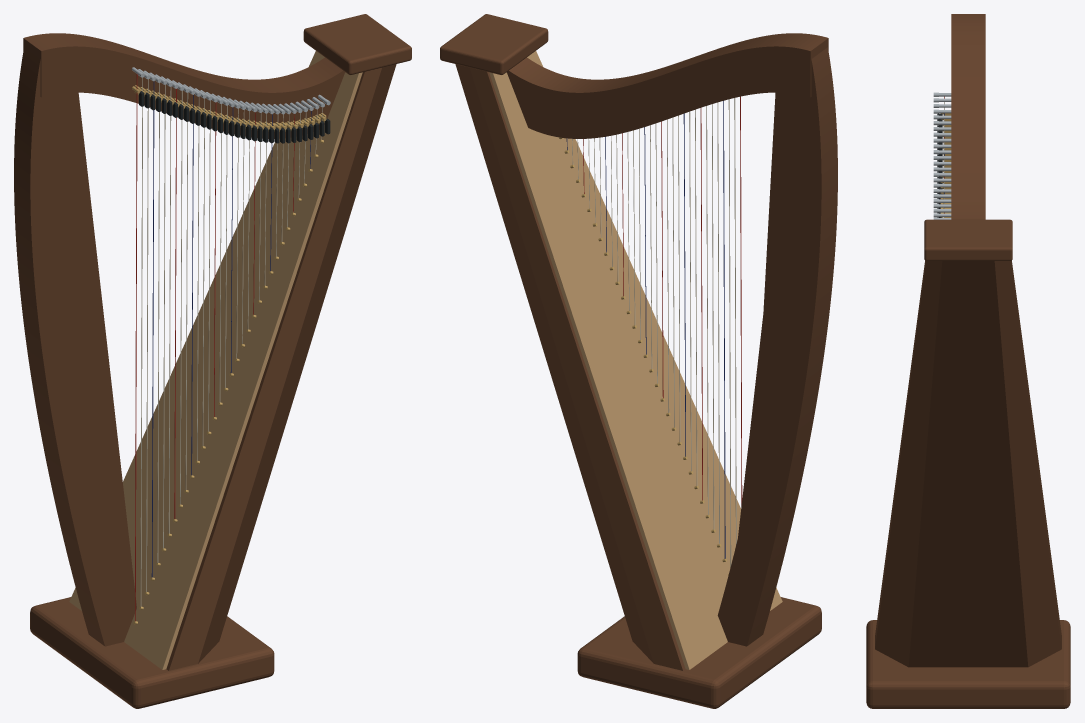
The picture shows the model from 3 angles, left to right: view 1: azimuth 30°, elevation 25°; view 2: azimuth 150°, elevation 25°; view 3: azimuth 270°, elevation 25°; orthographic projection. The views are drawn at different scales.
Visible parts, largest first — view 1: Closed pale tapered soundboard, Bowed solid front pillar, Closed tapered stave soundbox exterior, Curved solid harp neck, Low attached harp foot, Soundbox top joining cap, Original static string 01, Original static string 03, Original static string 02, Original static string 05, Original static string 06, Original static string 04 (+1 smaller); view 2: Closed pale tapered soundboard, Bowed solid front pillar, Closed tapered stave soundbox exterior, Curved solid harp neck, Low attached harp foot, Soundbox top joining cap, Original static string 04, Original static string 02, Original static string 05, Original static string 03, Original static string 07; view 3: Closed tapered stave soundbox exterior, Low attached harp foot, Curved solid harp neck, Soundbox top joining cap.
Part boxes in pixels (x1=…): Closed pale tapered soundboard: x1=69, y1=51, x2=362, y2=669; Bowed solid front pillar: x1=14, y1=47, x2=136, y2=646; Closed tapered stave soundbox exterior: x1=166, y1=64, x2=396, y2=670; Curved solid harp neck: x1=23, y1=33, x2=345, y2=138; Low attached harp foot: x1=30, y1=597, x2=274, y2=708; Soundbox top joining cap: x1=303, y1=14, x2=411, y2=74; Original static string 01: x1=135, y1=74, x2=137, y2=621; Original static string 03: x1=146, y1=79, x2=148, y2=591; Original static string 02: x1=140, y1=77, x2=142, y2=606; Original static string 05: x1=157, y1=83, x2=159, y2=562; Original static string 06: x1=163, y1=85, x2=165, y2=548; Original static string 04: x1=151, y1=81, x2=154, y2=577; Closed pale tapered soundboard: x1=489, y1=51, x2=782, y2=669; Bowed solid front pillar: x1=717, y1=47, x2=837, y2=646; Closed tapered stave soundbox exterior: x1=455, y1=64, x2=685, y2=670; Curved solid harp neck: x1=506, y1=33, x2=828, y2=138; Low attached harp foot: x1=577, y1=597, x2=821, y2=708; Soundbox top joining cap: x1=440, y1=14, x2=548, y2=74; Original static string 04: x1=723, y1=100, x2=725, y2=558; Original static string 02: x1=734, y1=98, x2=736, y2=544; Original static string 05: x1=717, y1=102, x2=719, y2=543; Original static string 03: x1=728, y1=99, x2=731, y2=567; Original static string 07: x1=706, y1=106, x2=708, y2=514; Closed tapered stave soundbox exterior: x1=875, y1=260, x2=1061, y2=667; Low attached harp foot: x1=866, y1=620, x2=1070, y2=708; Curved solid harp neck: x1=951, y1=14, x2=985, y2=219; Soundbox top joining cap: x1=924, y1=219, x2=1012, y2=260.
Bounding box in the file's own units: 75.07 × 125 × 38.
